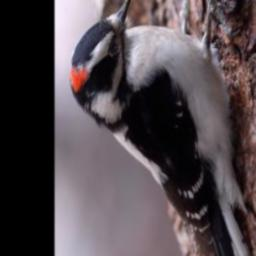Woodpecker: (65, 0, 256, 256)
